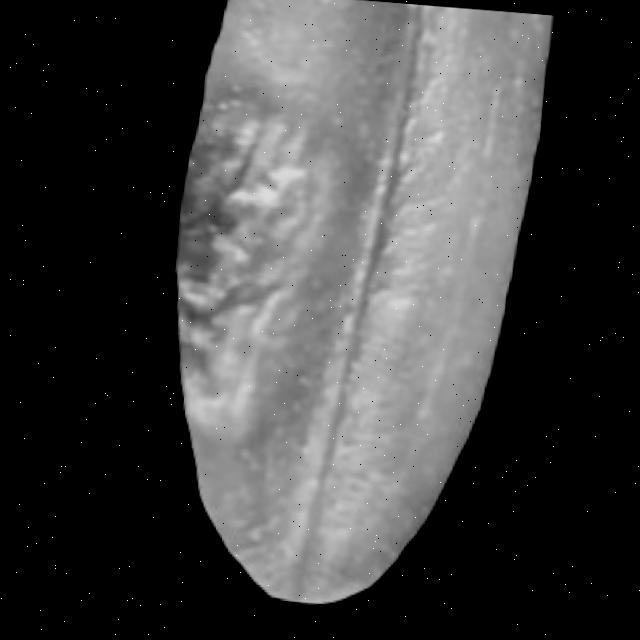mite: (310, 0, 338, 8)
spots: (145, 0, 560, 624)
sunburn: (160, 84, 326, 415)
